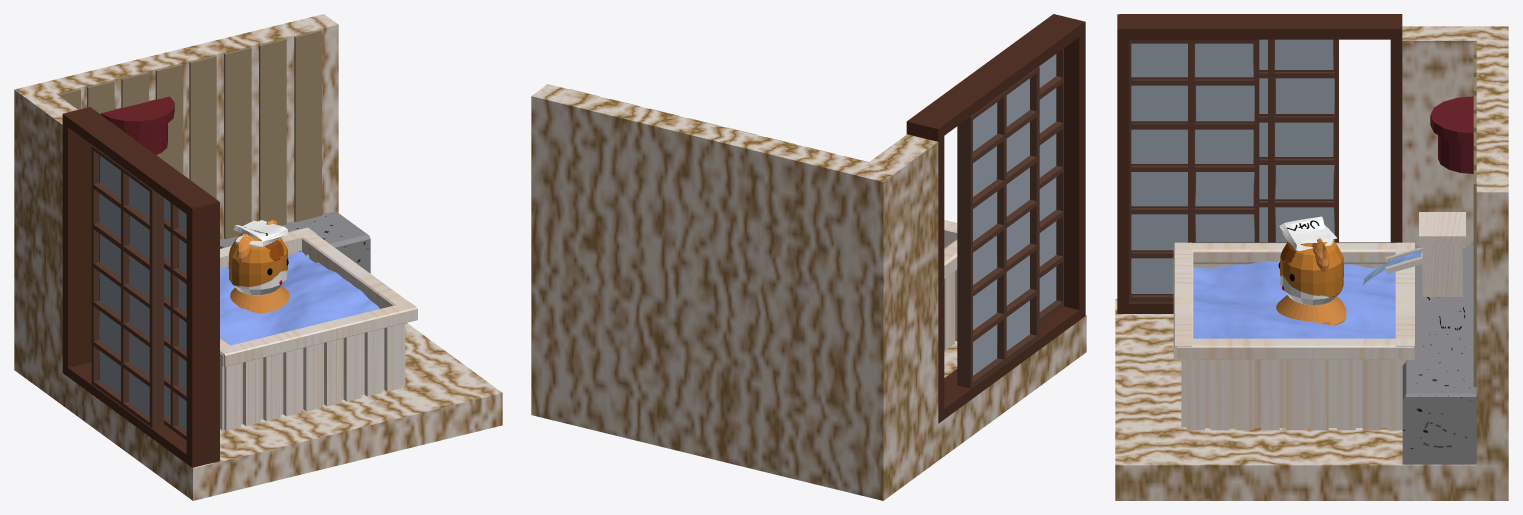
File: spa.glb
3 views of the same model, side by side, from view 1: azimuth 30°, elevation 25°; view 2: azimuth 150°, elevation 25°; view 3: azimuth 270°, elevation 25° (orthographic). The views are drawn at different scales.
Visible parts, largest first — view 1: 壁床, 壁床のぼこぼこ, ふすまのふち, 風呂, ふすま外, 水面, ふすま内, 顔, 電気, ベンチ, 胴体, 平面; view 2: 壁床, ふすま外, ふすまのふち, ふすま内, 風呂; view 3: 壁床, ふすま内, 風呂, ふすま外, ふすまのふち, ベンチ, 水面, お湯の出るところ, 顔, 電気, 壁床のぼこぼこ, 胴体 (+1 smaller).
Part boxes in pixels (x1,y1,x2,y2): 壁床: [14, 14, 502, 500]; 壁床のぼこぼこ: [57, 30, 321, 239]; ふすまのふち: [62, 107, 219, 467]; 風呂: [220, 227, 417, 430]; ふすま外: [91, 145, 163, 428]; 水面: [220, 251, 379, 345]; ふすま内: [164, 198, 186, 440]; 顔: [228, 233, 288, 295]; 電気: [100, 96, 174, 154]; ベンチ: [220, 212, 370, 273]; 胴体: [230, 286, 289, 313]; 平面: [233, 220, 288, 246]; 壁床: [531, 84, 1086, 500]; ふすま外: [957, 67, 1039, 388]; ふすまのふち: [906, 14, 1085, 423]; ふすま内: [1039, 48, 1063, 322]; 風呂: [944, 220, 957, 350]; 壁床: [1115, 26, 1508, 500]; ふすま内: [1129, 39, 1259, 301]; 風呂: [1173, 242, 1414, 430]; ふすま外: [1259, 39, 1338, 242]; ふすまのふち: [1117, 14, 1402, 313]; ベンチ: [1402, 245, 1476, 464]; 水面: [1193, 261, 1395, 338]; お湯の出るところ: [1385, 212, 1465, 296]; 顔: [1280, 240, 1343, 305]; 電気: [1430, 96, 1473, 173]; 壁床のぼこぼこ: [1473, 42, 1476, 386]; 胴体: [1276, 295, 1346, 325].
Size of the model in its own units: 2 by 1.8 by 2.
21 materials, 11 textured.
